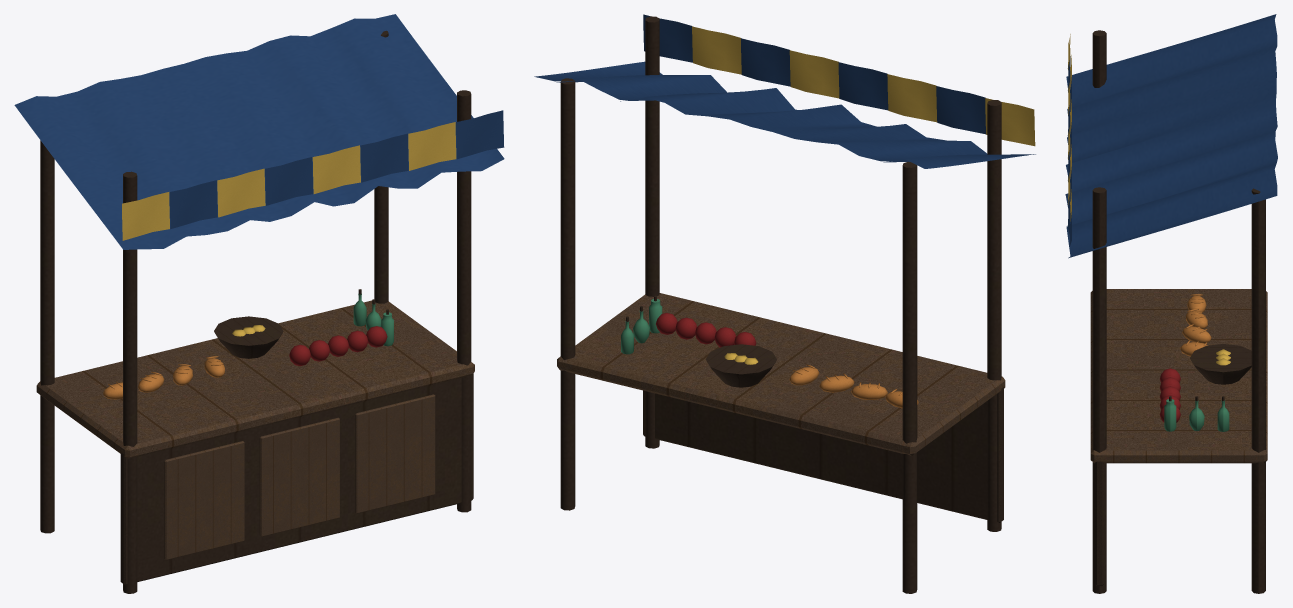
Rendered from market_stall.glb.
3 views of the same model, side by side, from view 1: azimuth 30°, elevation 25°; view 2: azimuth 150°, elevation 25°; view 3: azimuth 270°, elevation 25° (orthographic). The views are drawn at different scales.
Parts seen in each view (by area): view 1: market_stall; view 2: market_stall; view 3: market_stall.
Boxes of the visible parts, x1,y1,x2,y2 form: market_stall: (14, 14, 504, 593); market_stall: (534, 14, 1035, 593); market_stall: (1065, 14, 1277, 593).
Size of the model in its own units: 2.4 by 2.58 by 1.2.
Materials: 1 (1 with a texture image).
